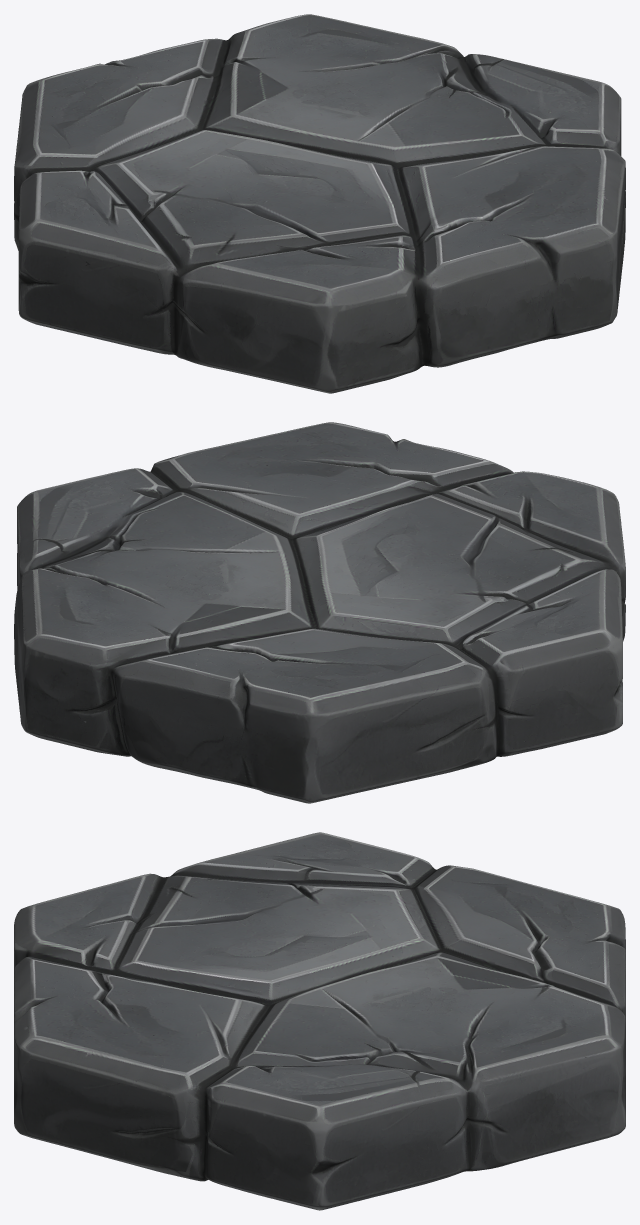
File: Meshy_AI_Polygonal_Stone_Platf_0321155031_texture.glb
The picture shows the model from 3 angles, top to bottom: view 1: azimuth 30°, elevation 25°; view 2: azimuth 150°, elevation 25°; view 3: azimuth 270°, elevation 25°; orthographic projection.
Size of the model in its own units: 1.9 by 0.3136 by 1.68.
1 material, 1 textured.
